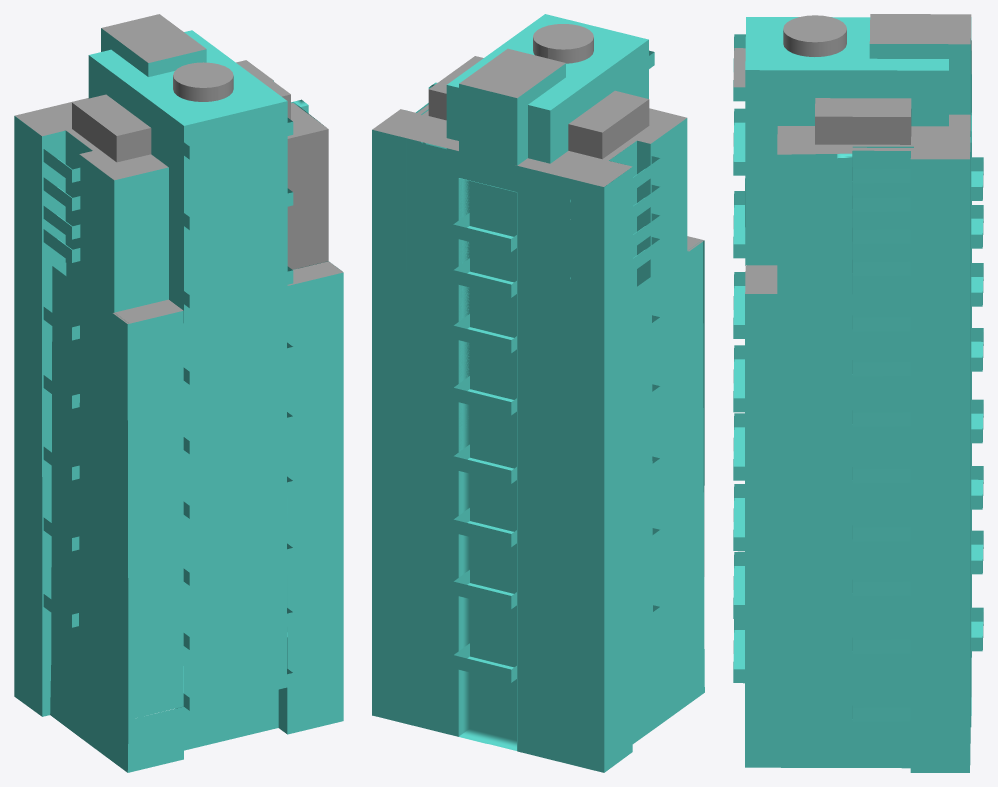
The model's file is Building_1_Green.glb.
The picture shows the model from 3 angles, left to right: view 1: azimuth 30°, elevation 25°; view 2: azimuth 150°, elevation 25°; view 3: azimuth 270°, elevation 25°; orthographic projection. The views are drawn at different scales.
Parts seen in each view (by area): view 1: polySurface314; view 2: polySurface314; view 3: polySurface314.
Part boxes in pixels (bbox=[...]): polySurface314: bbox=[14, 14, 343, 772]; polySurface314: bbox=[372, 14, 704, 772]; polySurface314: bbox=[733, 14, 983, 772].
Bounding box in the file's own units: 4271 × 11416 × 3784.
